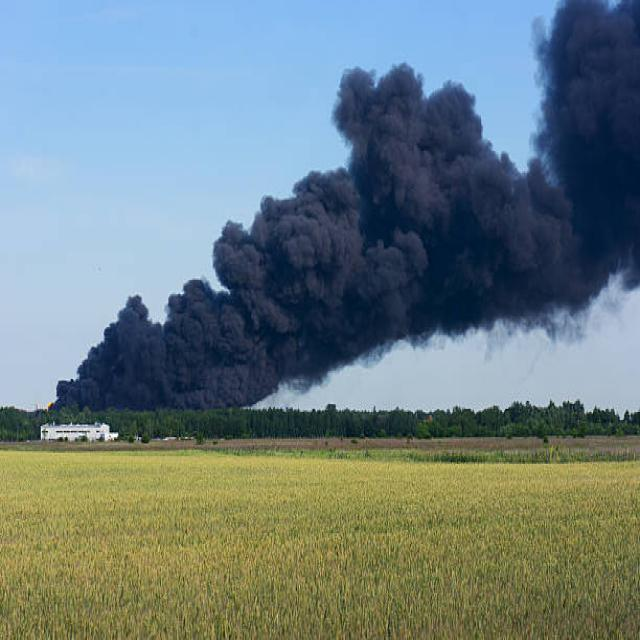Smoke: (44, 0, 640, 414)
